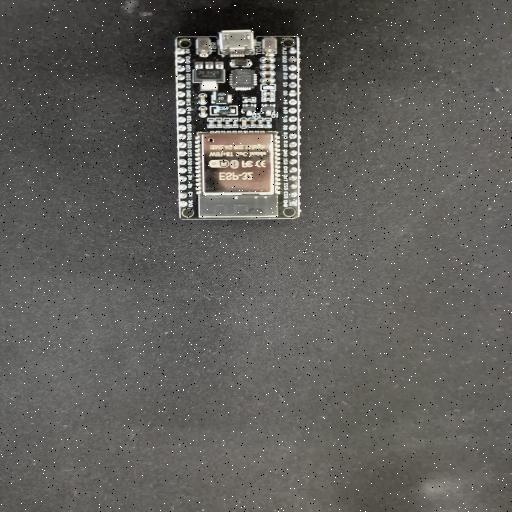esp32-dev: (175, 30, 300, 219)
